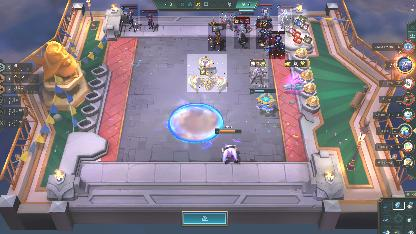1_sylas: (250, 59, 268, 85), (219, 12, 235, 30)
1_zyra: (140, 10, 158, 32)
2_lux: (234, 17, 250, 49), (278, 7, 292, 31)
2_varus: (256, 19, 272, 49)
2_vladimir: (269, 31, 285, 59), (258, 8, 272, 28)
2_zyra: (120, 4, 138, 32)
3_nidalee: (208, 23, 226, 51)
3_skarner: (187, 54, 227, 92)
